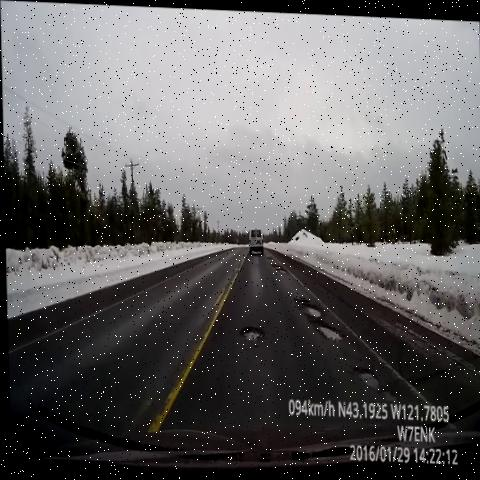pothole: (291, 281, 345, 353), (348, 356, 410, 416), (234, 314, 268, 352), (268, 256, 288, 280), (262, 244, 276, 261)
